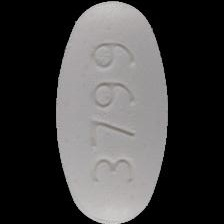0603-4112: (0, 0, 224, 224)
